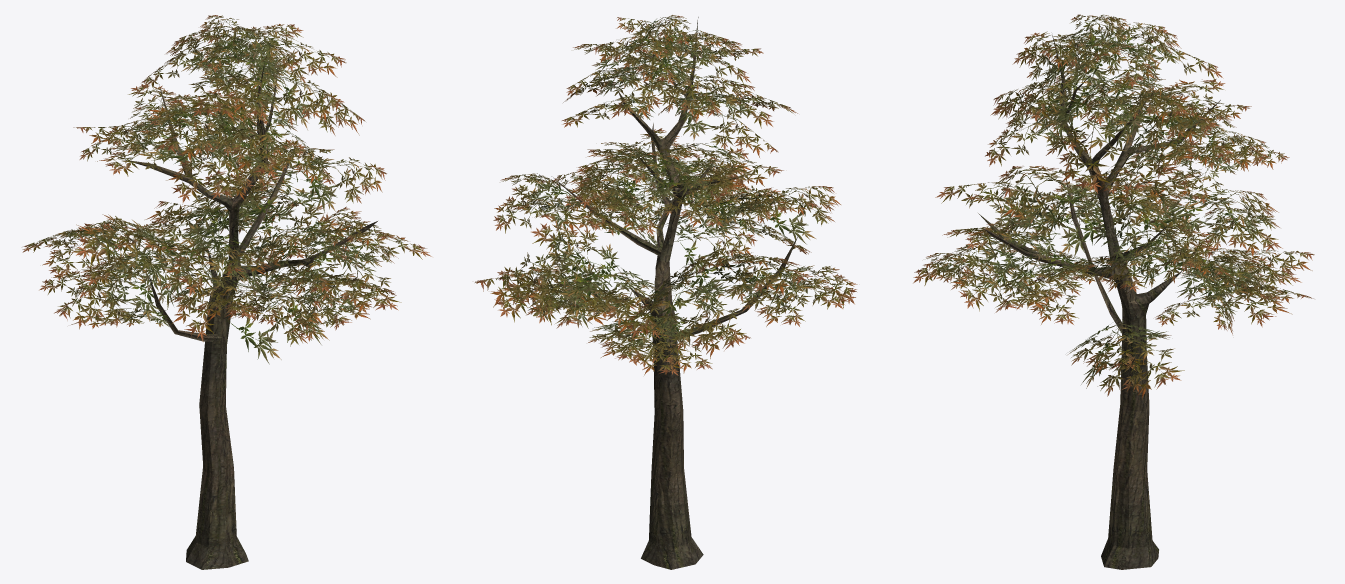
Rendered from bg_anh_tree_mapletree01b_sm_ysi.FBX.
The picture shows the model from 3 angles, left to right: view 1: azimuth 30°, elevation 25°; view 2: azimuth 150°, elevation 25°; view 3: azimuth 270°, elevation 25°; orthographic projection. The views are drawn at different scales.
Visible parts, largest first — view 1: bg_anh_tree_mapletree01b_sm_ysi; view 2: bg_anh_tree_mapletree01b_sm_ysi; view 3: bg_anh_tree_mapletree01b_sm_ysi.
Part boxes in pixels (x1,y1,x2,y2): bg_anh_tree_mapletree01b_sm_ysi: [22, 15, 431, 569]; bg_anh_tree_mapletree01b_sm_ysi: [475, 15, 857, 569]; bg_anh_tree_mapletree01b_sm_ysi: [913, 14, 1314, 569].
Bounding box in the file's own units: 390 × 566 × 400.
